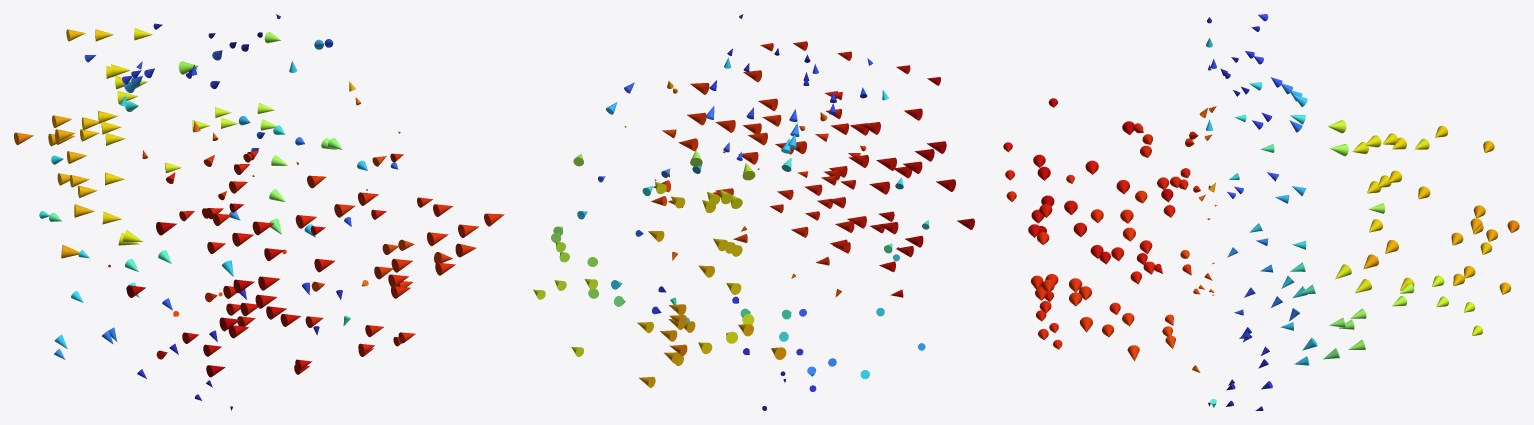
File: LineasCorrienteH2-O2_mh2-6.88_V-0.8.glb
3 renders of one model, left to right at view 1: azimuth 30°, elevation 25°; view 2: azimuth 150°, elevation 25°; view 3: azimuth 270°, elevation 25°, orthographic. The views are drawn at different scales.
Size of the model in its own units: 0.00093 by 0.000967 by 0.00122.
Materials: 2 (2 with a texture image).
